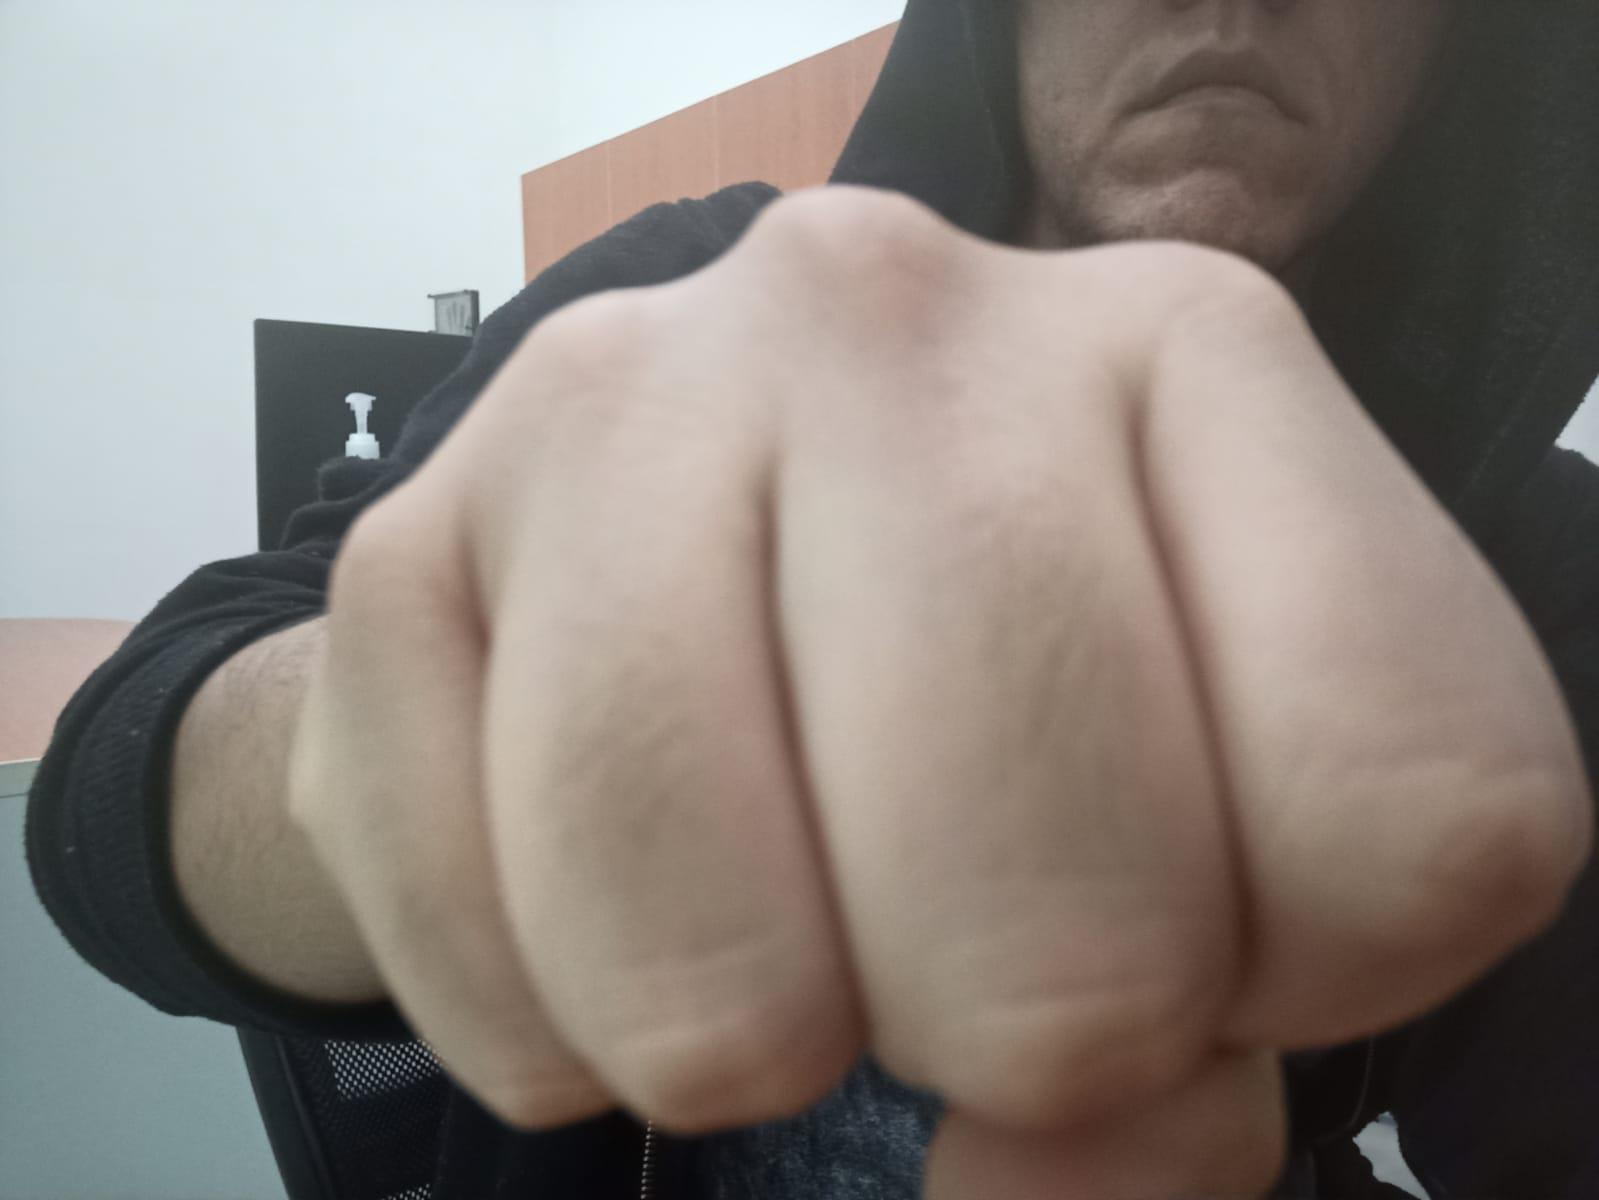Stone: (243, 190, 1599, 1200)
